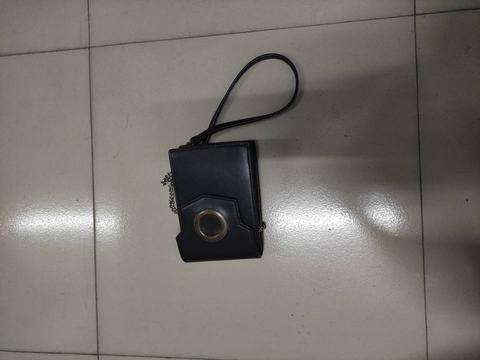bag: (160, 46, 305, 263)
